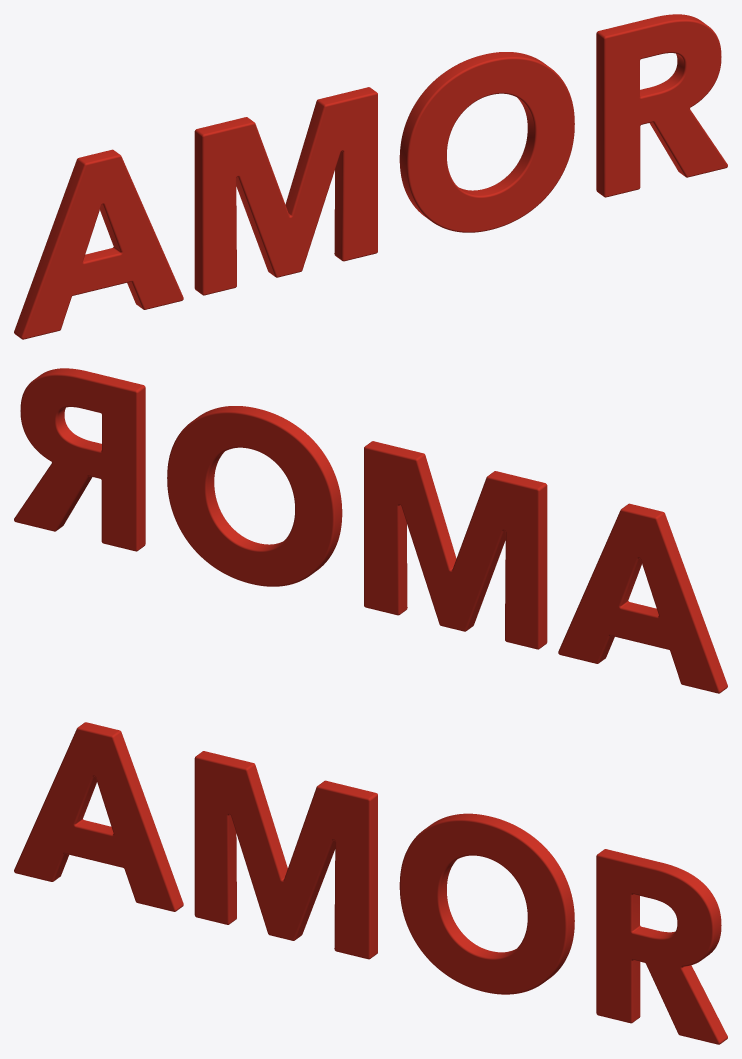
File: amor.glb
The picture shows the model from 3 angles, top to bottom: view 1: azimuth 30°, elevation 25°; view 2: azimuth 150°, elevation 25°; view 3: azimuth 330°, elevation 25°; orthographic projection.
Visible parts, largest first — view 1: geometry_0; view 2: geometry_0; view 3: geometry_0.
Part boxes in pixels (x1,y1,x2,y2): geometry_0: (14, 14, 727, 339); geometry_0: (14, 368, 727, 693); geometry_0: (14, 722, 727, 1044).
Size of the model in its own units: 3.25 by 0.746 by 0.07.
